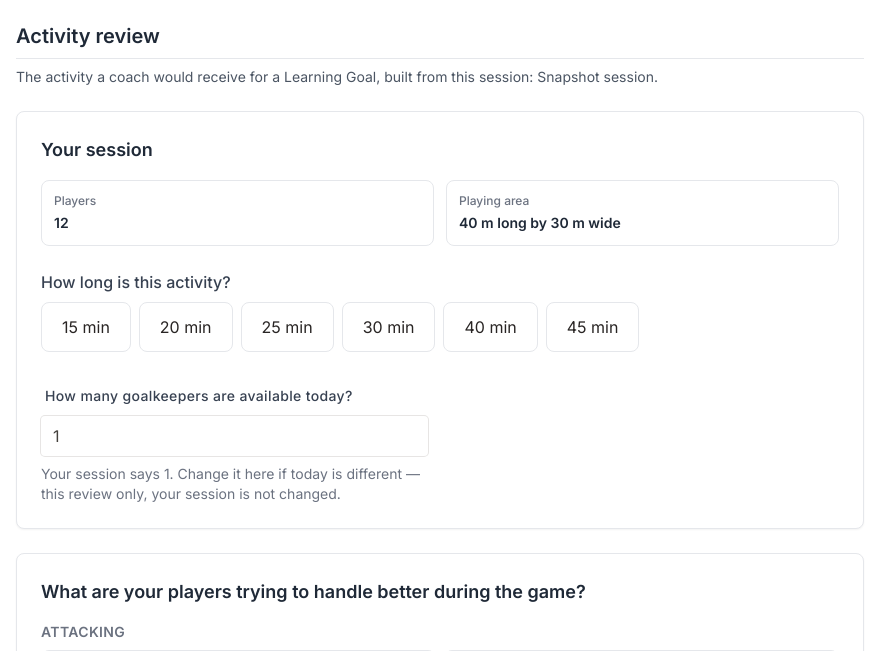
Test case: Goal question › renders exactly one radio per snapshot choice using the data labels
What coordinates should you click on to do the following:
click the button "20 min"
I would click on:
 (186, 327)
Its box is [139, 302, 232, 352].
(page scrolled)
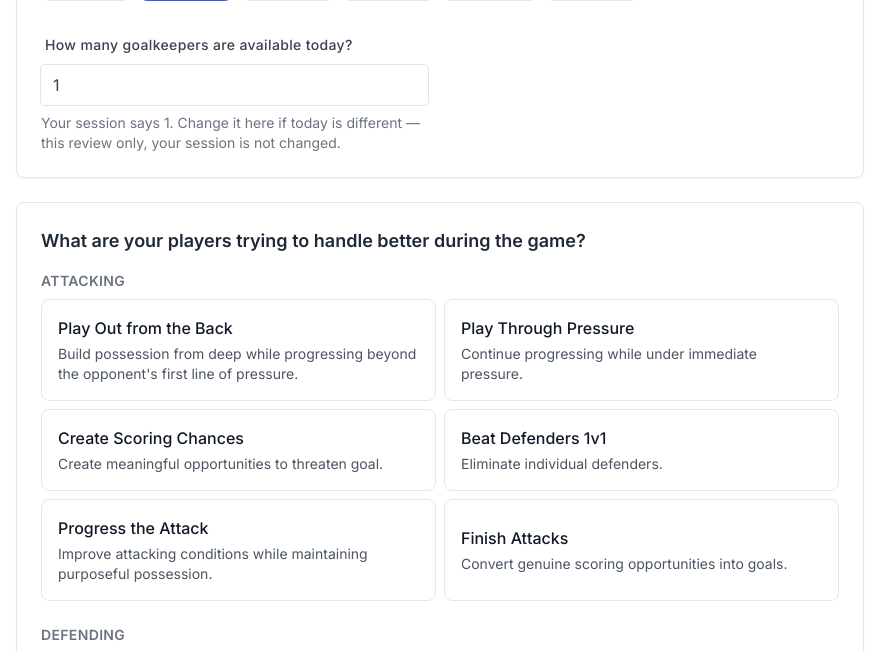
What coordinates should you click on to do the following:
click the button that starts with "Play Out from the Back"
I would click on:
 (238, 350)
Its box is [41, 299, 436, 401].
(page scrolled)
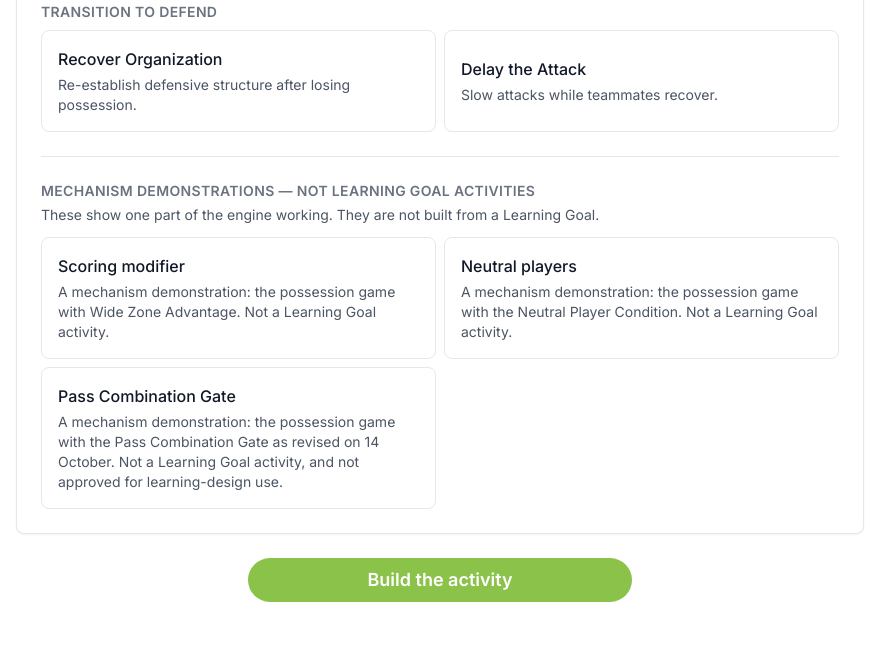
What coordinates should you click on to do the following:
click the button "Build the activity"
I would click on:
 (440, 580)
Its box is [248, 558, 632, 602].
(page scrolled)
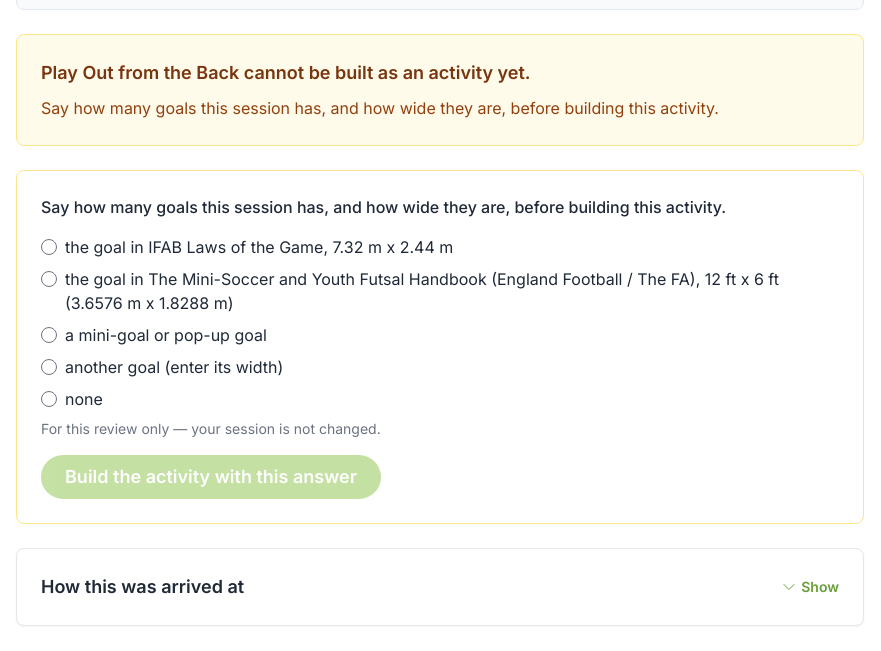
Now the number of radio buttons is 5, box [41, 239, 57, 255]; [41, 271, 57, 287]; [41, 327, 57, 343]; [41, 359, 57, 375]; [41, 391, 57, 407]
Now the radio button labelled "the goal in IFAB Laws of the Game, 7.32 m x 2.44 m" is shown, box [41, 239, 57, 255]
Now the radio button named "the goal in The Mini-Soccer and Youth Futsal Handbook (England Football / The FA), 12 ft x 6 ft (3.6576 m x 1.8288 m)" is shown, box [41, 271, 57, 287]
